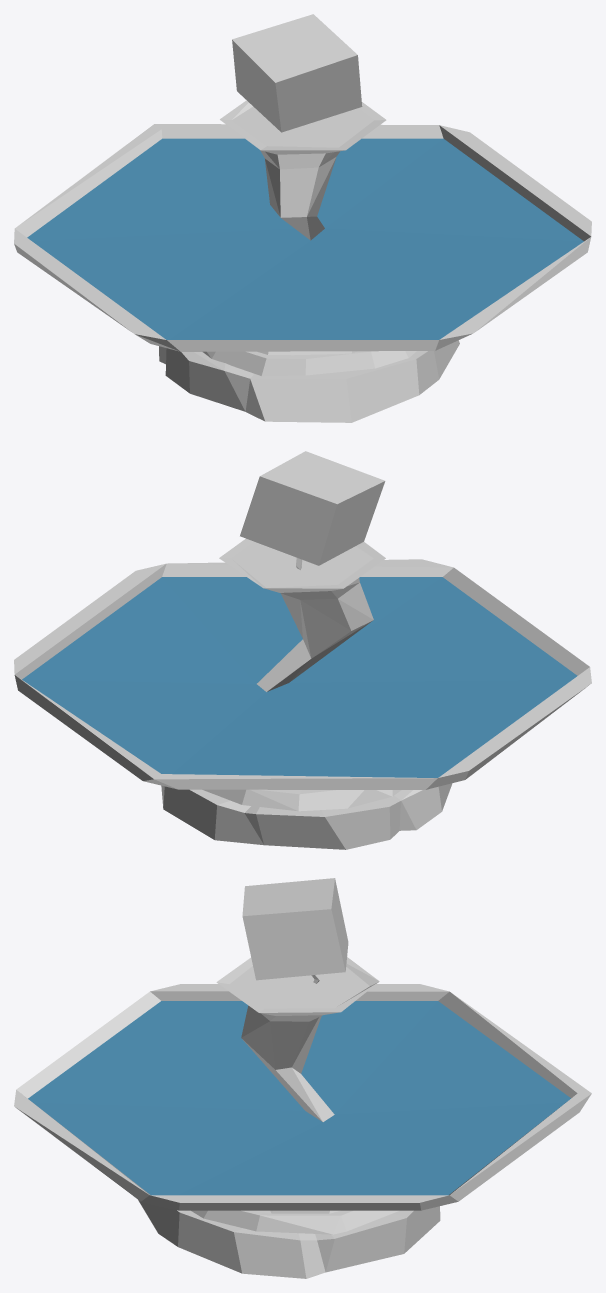
The model's file is ENV_Fountain2_Placeholder.fbx.
3 views of the same model, one above another, from view 1: azimuth 30°, elevation 25°; view 2: azimuth 150°, elevation 25°; view 3: azimuth 270°, elevation 25° (orthographic).
Parts seen in each view (by area): view 1: Cube.007; view 2: Cube.007; view 3: Cube.007.
Part boxes in pixels (bbox=[...]): Cube.007: bbox=[14, 14, 591, 422]; Cube.007: bbox=[14, 451, 591, 849]; Cube.007: bbox=[14, 878, 591, 1278].
Bounding box in the file's own units: 493 × 549 × 332.
